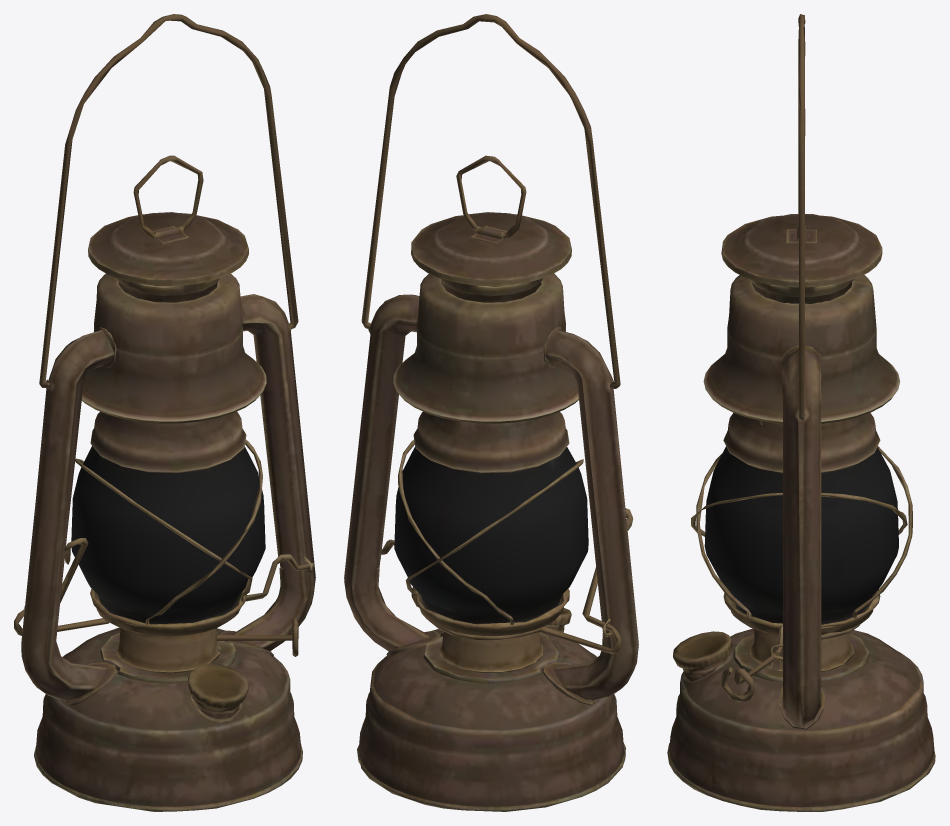
File: Lantern_01.glb
The picture shows the model from 3 angles, left to right: view 1: azimuth 30°, elevation 25°; view 2: azimuth 150°, elevation 25°; view 3: azimuth 270°, elevation 25°; orthographic projection.
Visible parts, largest first — view 1: Lantern_01, Lantern_01_glass; view 2: Lantern_01, Lantern_01_glass; view 3: Lantern_01, Lantern_01_glass.
Part boxes in pixels (x1,y1,x2,y2): Lantern_01: [14, 14, 315, 811]; Lantern_01_glass: [71, 446, 265, 624]; Lantern_01: [344, 14, 638, 811]; Lantern_01_glass: [394, 446, 588, 623]; Lantern_01: [667, 14, 935, 811]; Lantern_01_glass: [704, 446, 898, 624].
Bounding box in the file's own units: 0.1219 × 0.2939 × 0.0967.
Materials: 2 (2 with a texture image).
